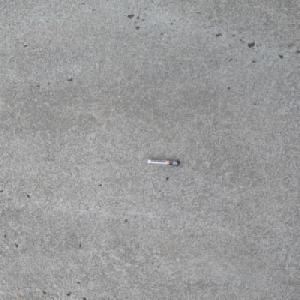Battery: (146, 158, 180, 165)
